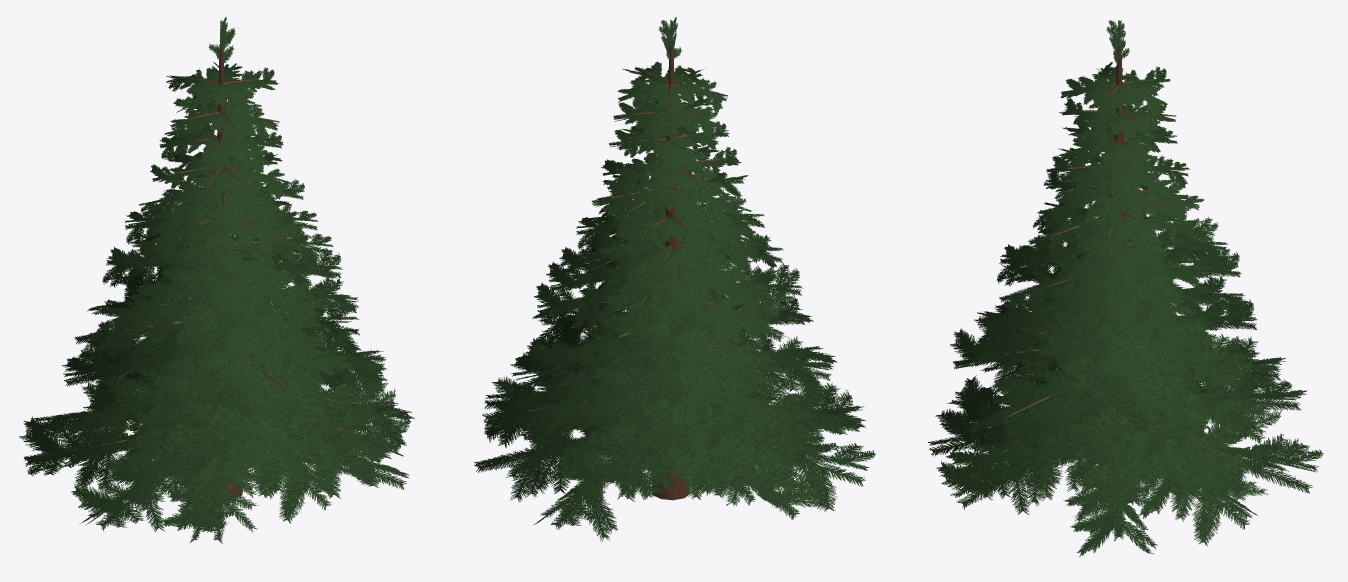
The model's file is tree_pine_a.glb.
3 renders of one model, left to right at view 1: azimuth 30°, elevation 25°; view 2: azimuth 150°, elevation 25°; view 3: azimuth 270°, elevation 25°, orthographic.
Visible parts, largest first — view 1: tree_pine_a; view 2: tree_pine_a; view 3: tree_pine_a.
Boxes of the visible parts, box(x1,y1,x2,y2) form: tree_pine_a: box(19, 17, 414, 544); tree_pine_a: box(473, 17, 875, 542); tree_pine_a: box(928, 20, 1323, 556).
Size of the model in its own units: 6.27 by 7.75 by 6.19.
2 materials, 2 textured.
